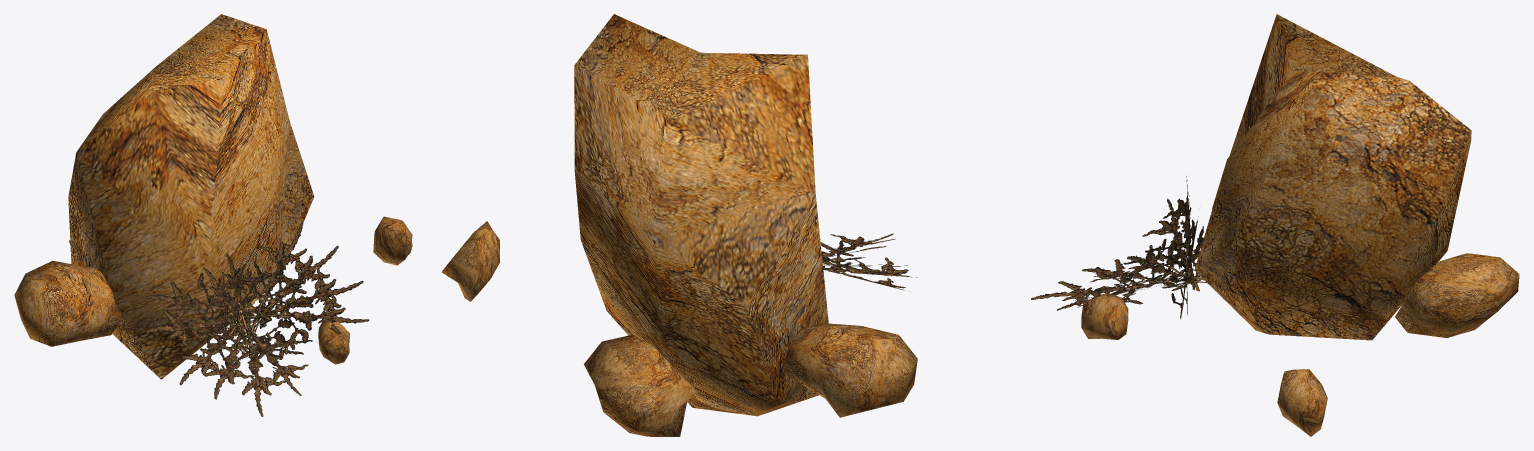
The model's file is stone2.dae.
3 renders of one model, left to right at view 1: azimuth 30°, elevation 25°; view 2: azimuth 150°, elevation 25°; view 3: azimuth 270°, elevation 25°, orthographic. The views are drawn at different scales.
Parts seen in each view (by area): view 1: Plane.010; view 2: Plane.010; view 3: Plane.010.
Boxes of the visible parts, x1,y1,x2,y2 form: Plane.010: (14, 14, 412, 416); Plane.010: (441, 14, 917, 436); Plane.010: (1031, 14, 1519, 436).
Size of the model in its own units: 2.34 by 2.45 by 1.74.
1 material, 1 textured.
